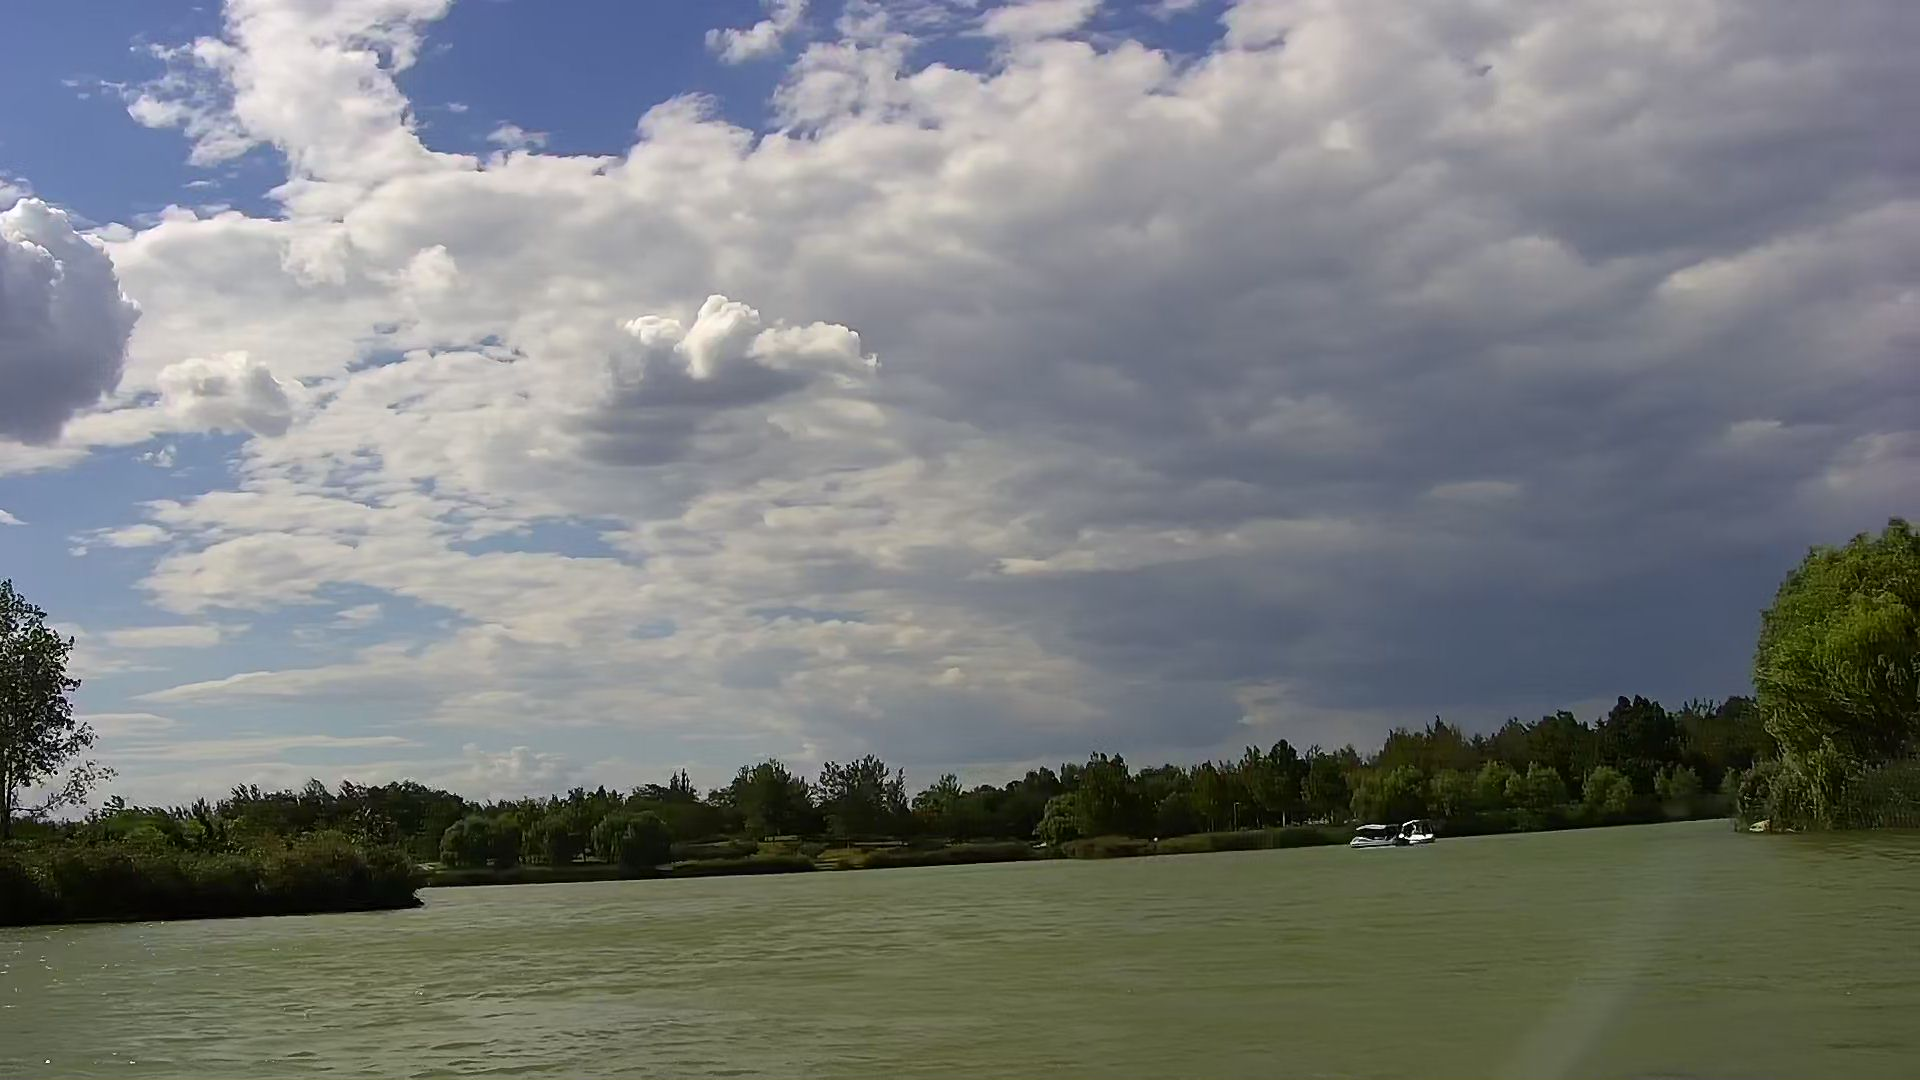boat: (1344, 822, 1400, 849), (1381, 822, 1439, 848)
rock: (1747, 814, 1774, 835)
